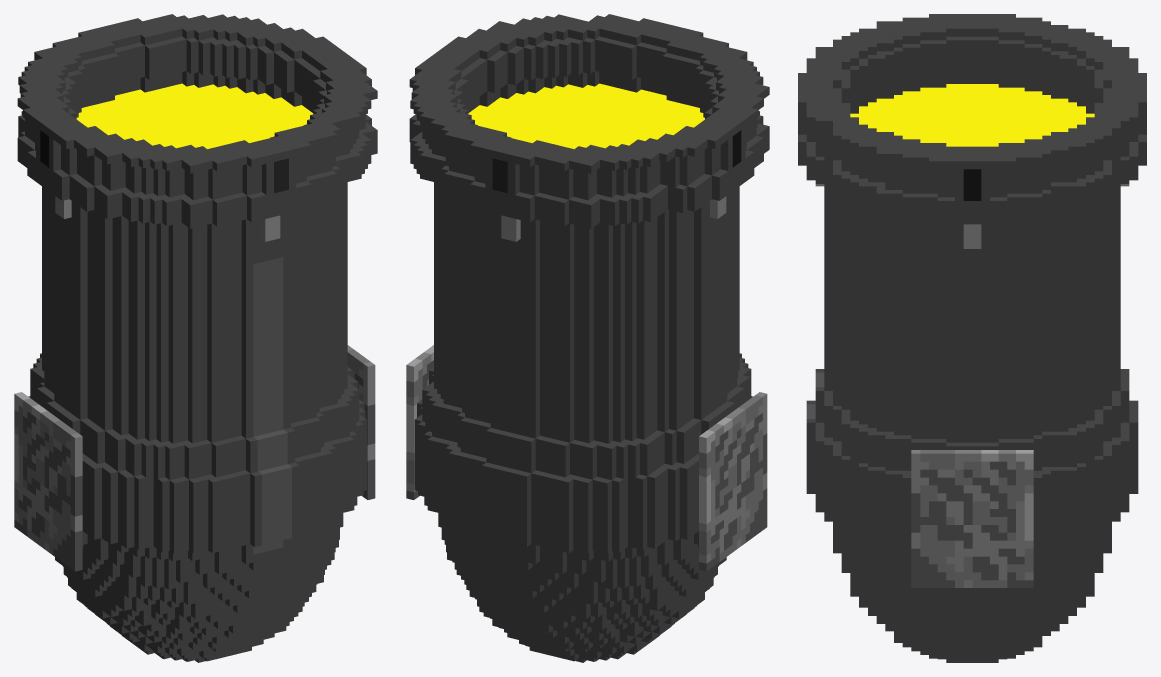
Rendered from AS_Spotlight.glb.
3 views of the same model, side by side, from view 1: azimuth 30°, elevation 25°; view 2: azimuth 150°, elevation 25°; view 3: azimuth 270°, elevation 25° (orthographic).
Parts seen in each view (by area): view 1: Untitled; view 2: Untitled; view 3: Untitled.
Part boxes in pixels (bbox=[...]): Untitled: bbox=[14, 14, 377, 662]; Untitled: bbox=[406, 14, 769, 662]; Untitled: bbox=[798, 14, 1146, 662].
Size of the model in its own units: 4 by 7.1 by 4.
Materials: 2 (1 with a texture image).
